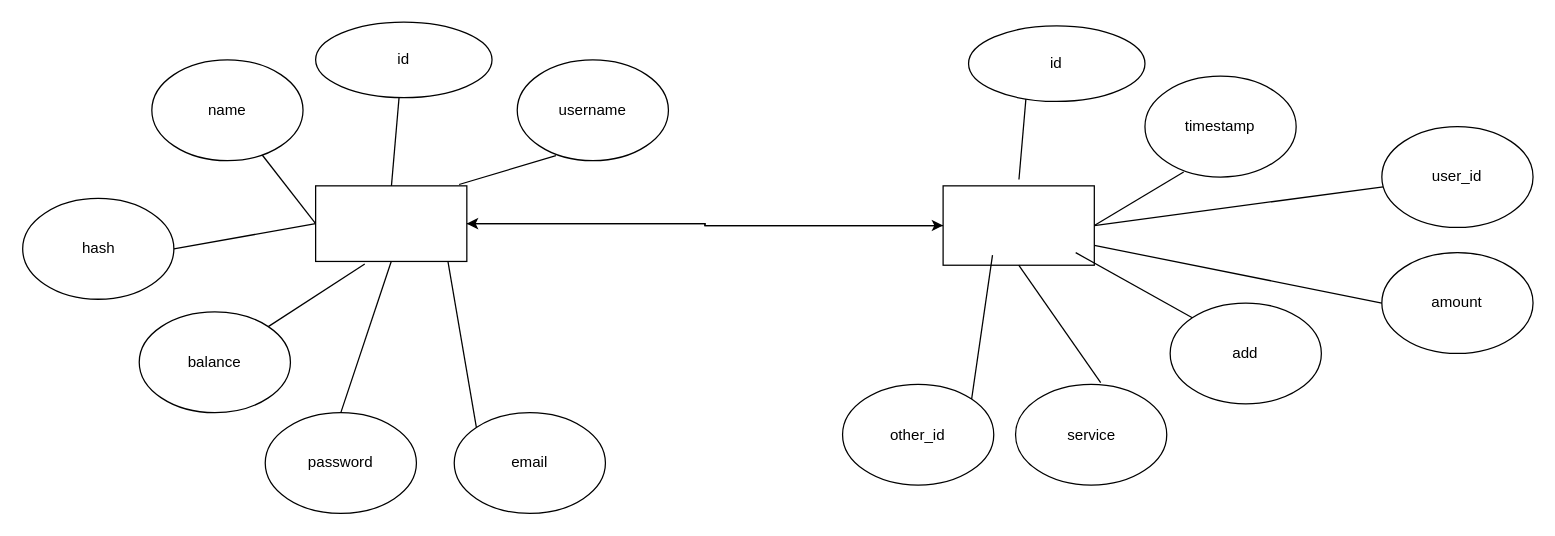
The diagram is 1555 pixels wide and 536 high, and some of its shapes have lost their labels. Each missing label, with the centre of its shape:
"user_details" goes at point (390, 223).
"user_transaction" goes at point (1018, 225).
